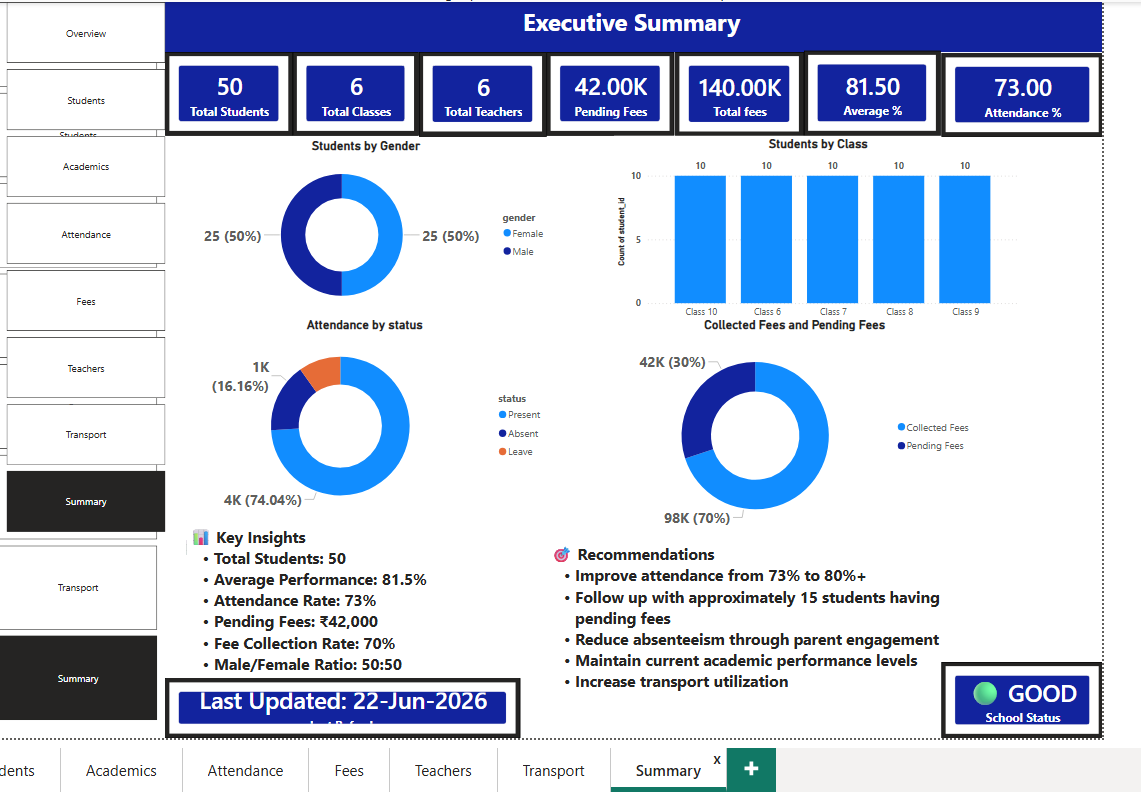

This screenshot's page, from the dashboard's own definition file:
{"tool":"powerbi","page":{"name":"Summary","canvas":[1500,1000],"ordinal":7},"visuals":[{"type":"textbox","box":[216.8,0,1283.5,67.6],"z":0},{"type":"pageNavigator","box":[0,0,215.7,976.6],"z":1000},{"type":"pageNavigator","box":[10,0,216.4,720.2],"z":2000},{"type":"cardVisual","fields":{"Data":["CountNonNull(students.student_id)"]},"box":[226.2,67.3,173.6,113.7],"z":3000},{"type":"cardVisual","fields":{"Data":["CountNonNull(teachers.teacher_id)"]},"box":[399.9,67.3,171.2,113.7],"z":4000},{"type":"cardVisual","fields":{"Data":["CountNonNull(teachers.teacher_id)"]},"box":[571.1,67.3,173.6,114.9],"z":5000},{"type":"cardVisual","fields":{"Data":["fees.Pending Fees"]},"box":[744.7,68.5,173.6,113.7],"z":6000},{"type":"cardVisual","fields":{"Data":["Sum(fees.amount)"]},"box":[918.3,68.5,174.9,114.9],"z":7000},{"type":"cardVisual","fields":{"Data":["marks.Average Percentage"]},"box":[1094.4,66.9,185.9,116],"z":8000},{"type":"columnChart","title":"Students by Class","fields":{"Category":["classes.class_name"],"Y":["CountNonNull(students.student_id)"]},"box":[835,181.2,555,267.5],"z":9000},{"type":"donutChart","title":"Students by Gender","fields":{"Category":["students.gender"],"Y":["CountNonNull(students.student_id)"]},"box":[242.5,185,511.2,243.8],"z":10000},{"type":"donutChart","title":"Attendance by status","fields":{"Category":["attendance.status"],"Y":["Sum(attendance.attendance_id)"]},"box":[244.6,428.4,504.7,277.5],"z":11000},{"type":"donutChart","fields":{"Y":["fees.Collected Fees","fees.Pending Fees"]},"box":[830.8,428.4,501.3,303.5],"z":12000},{"type":"textbox","box":[244.6,720.1,373.6,256.5],"z":13000},{"type":"textbox","box":[255,705.9,452.7,281],"z":13001},{"type":"textbox","box":[745.6,730.3,567.3,256.5],"z":13002},{"type":"cardVisual","fields":{"Data":["attendance.School Status"]},"box":[1280.1,896.7,220.3,104.1],"z":13003},{"type":"cardVisual","fields":{"Data":["attendance.Attendance %"]},"box":[1280,70,220,113.8],"z":13004},{"type":"cardVisual","fields":{"Data":["attendance.Last Refresh"]},"box":[225.5,919.3,482.2,81.5],"z":13005}]}

Visuals, with their boxes on the page's 1500x1000 design canvas (x1, y1, x2, y2). These are canvas units, not pixel positions in the 1141x792 screenshot, which may show the page scaled, cropped or inside an application window:
textbox: <bbox>217, 0, 1500, 68</bbox>
pageNavigator: <bbox>0, 0, 216, 977</bbox>
pageNavigator: <bbox>10, 0, 226, 720</bbox>
cardVisual - CountNonNull(students.student_id): <bbox>226, 67, 400, 181</bbox>
cardVisual - CountNonNull(teachers.teacher_id): <bbox>400, 67, 571, 181</bbox>
cardVisual - CountNonNull(teachers.teacher_id): <bbox>571, 67, 745, 182</bbox>
cardVisual - fees.Pending Fees: <bbox>745, 68, 918, 182</bbox>
cardVisual - Sum(fees.amount): <bbox>918, 68, 1093, 183</bbox>
cardVisual - marks.Average Percentage: <bbox>1094, 67, 1280, 183</bbox>
"Students by Class" columnChart: <bbox>835, 181, 1390, 449</bbox>
"Students by Gender" donutChart: <bbox>242, 185, 754, 429</bbox>
"Attendance by status" donutChart: <bbox>245, 428, 749, 706</bbox>
donutChart - fees.Collected Fees x fees.Pending Fees: <bbox>831, 428, 1332, 732</bbox>
textbox: <bbox>245, 720, 618, 977</bbox>
textbox: <bbox>255, 706, 708, 987</bbox>
textbox: <bbox>746, 730, 1313, 987</bbox>
cardVisual - attendance.School Status: <bbox>1280, 897, 1500, 1001</bbox>
cardVisual - attendance.Attendance %: <bbox>1280, 70, 1500, 184</bbox>
cardVisual - attendance.Last Refresh: <bbox>226, 919, 708, 1001</bbox>
